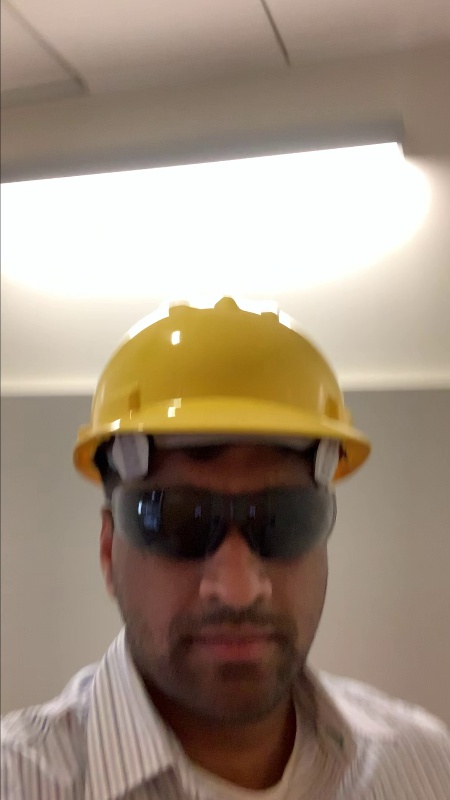glasses: (99, 480, 354, 564)
helmet: (59, 296, 373, 484)
